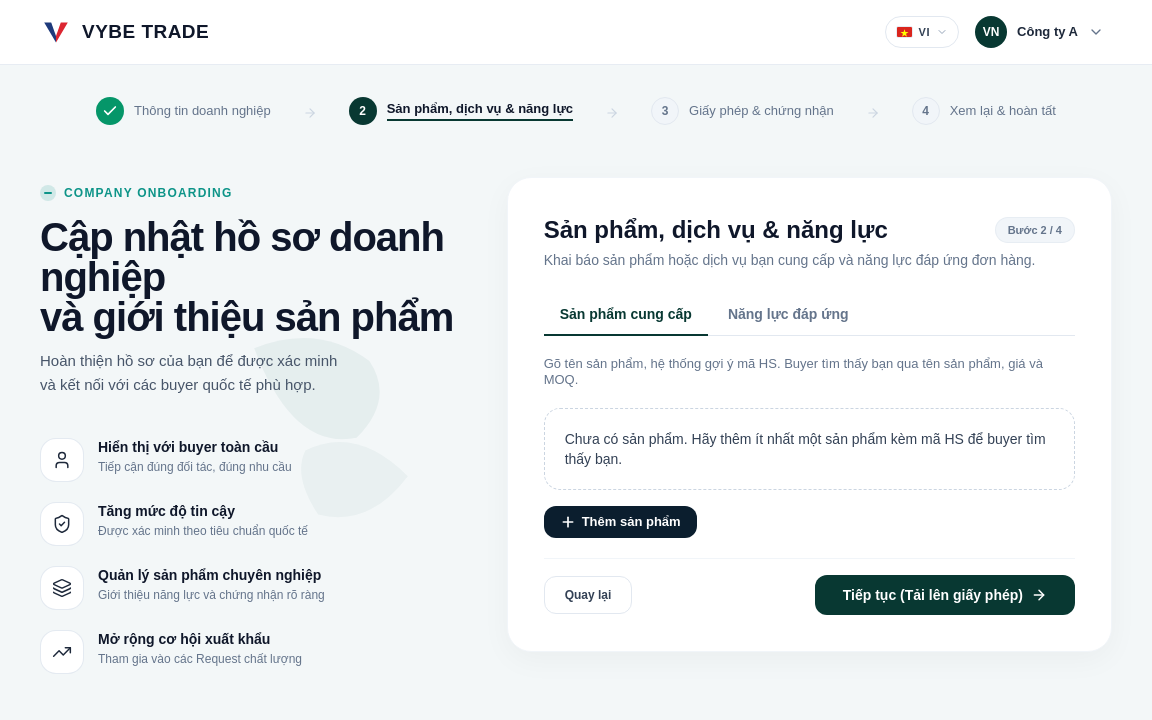
Test: SellerOnboarding bước 2 — năng lực và thị trường xuất khẩu cấp công ty (U2) › có ô chọn thị trường xuất khẩu (không giới hạn ở EU); nạp sẵn từ hồ sơ đã lưu
The image size is (1152, 720).
Click the tab "Năng lực đáp ứng" at (788, 315), box [712,294,864,336]
(page scrolled)
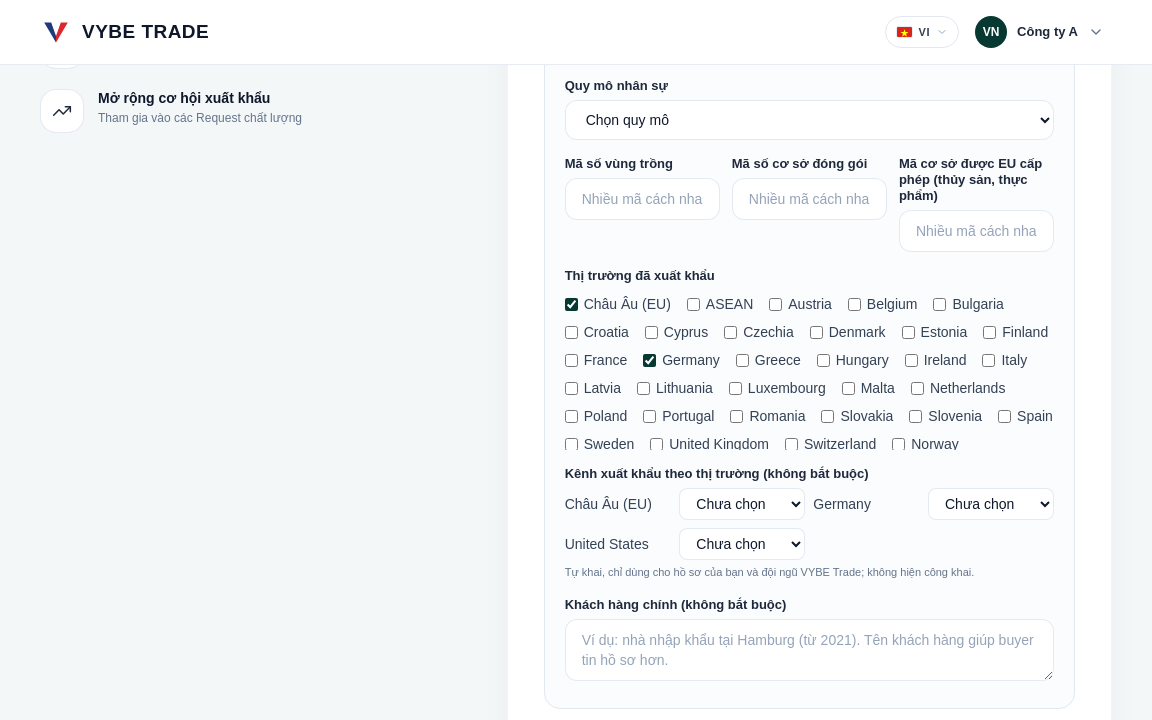
expect the checkbox labelled "Châu Âu (EU)" is checked: met, box [565,298,578,310]
expect the checkbox labelled "Germany" is checked: met, box [643,354,656,366]
expect the checkbox labelled "France" is not checked: met, box [565,354,578,366]
